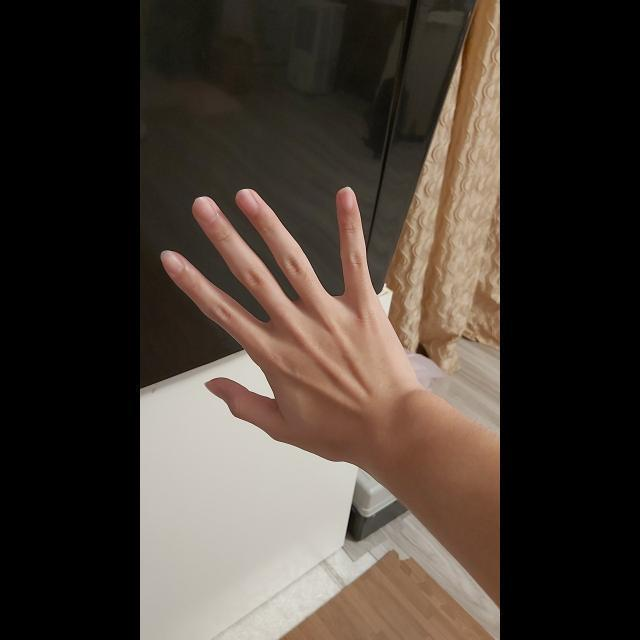bare_hand: (159, 185, 415, 447)
